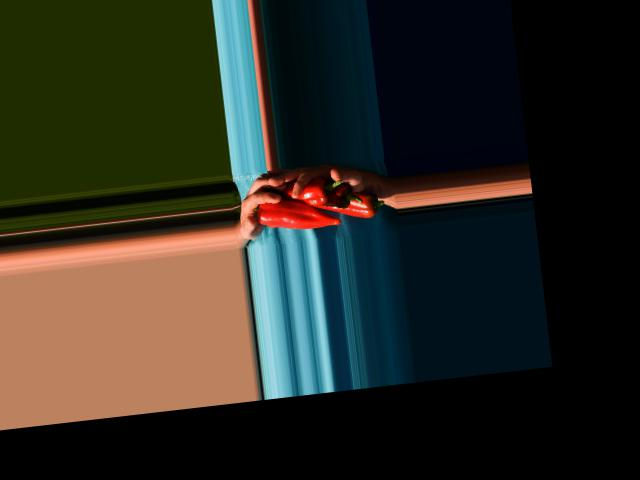bell_pepper: (330, 187, 386, 221)
